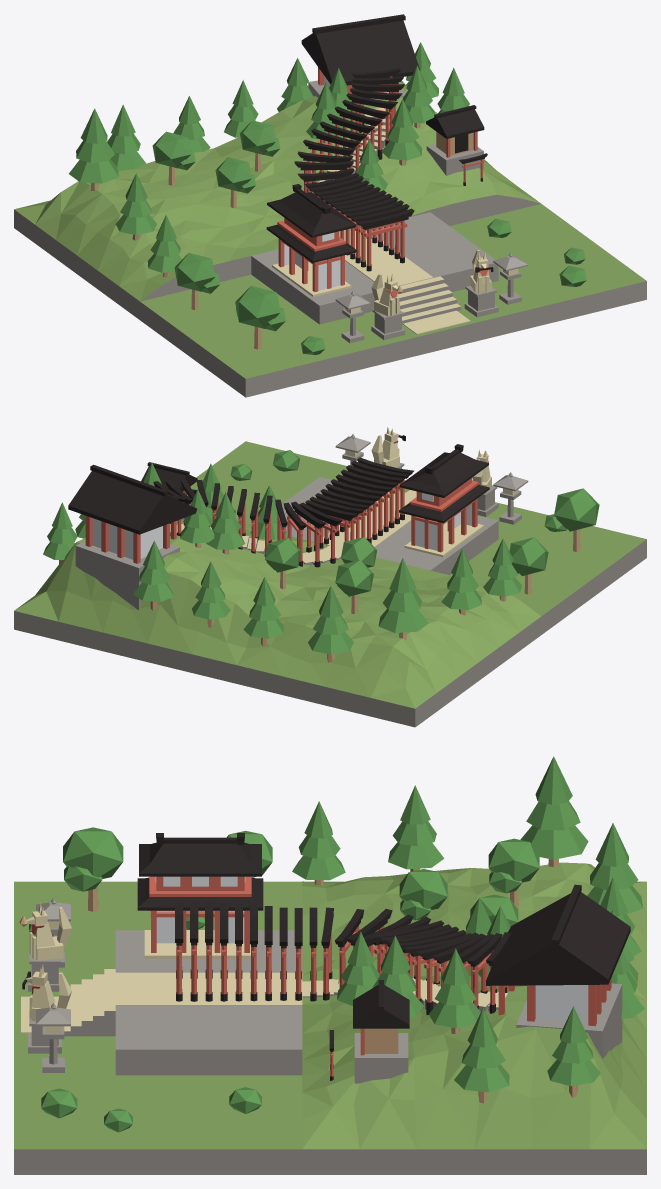
The model's file is fushimi-inari.glb.
3 views of the same model, one above another, from view 1: azimuth 30°, elevation 25°; view 2: azimuth 150°, elevation 25°; view 3: azimuth 270°, elevation 25° (orthographic). The views are drawn at different scales.
Parts seen in each view (by area): view 1: fushimi_terrain, fushimi_stone, fushimi_foliage, fushimi_roof, fushimi_cream, fushimi_vermilion, fushimi_wood, fushimi_snow; view 2: fushimi_terrain, fushimi_foliage, fushimi_stone, fushimi_roof, fushimi_vermilion, fushimi_cream, fushimi_snow, fushimi_wood; view 3: fushimi_terrain, fushimi_stone, fushimi_foliage, fushimi_roof, fushimi_cream, fushimi_vermilion, fushimi_snow, fushimi_wood.
Part boxes in pixels (x1,y1,x2,y2): fushimi_terrain: [14, 80, 646, 378]; fushimi_stone: [14, 80, 646, 397]; fushimi_foliage: [69, 42, 586, 355]; fushimi_roof: [266, 14, 493, 272]; fushimi_cream: [272, 108, 491, 334]; fushimi_vermilion: [277, 67, 488, 297]; fushimi_wood: [91, 123, 473, 349]; fushimi_snow: [284, 76, 388, 290]; fushimi_terrain: [14, 441, 646, 708]; fushimi_foliage: [43, 450, 599, 654]; fushimi_stone: [14, 434, 646, 727]; fushimi_roof: [68, 434, 489, 567]; fushimi_vermilion: [85, 440, 488, 563]; fushimi_cream: [170, 427, 491, 562]; fushimi_snow: [92, 493, 471, 559]; fushimi_wood: [59, 451, 580, 662]; fushimi_terrain: [14, 862, 646, 1149]; fushimi_stone: [14, 898, 646, 1174]; fushimi_foliage: [29, 756, 644, 1132]; fushimi_roof: [22, 833, 630, 1080]; fushimi_cream: [21, 903, 507, 1033]; fushimi_vermilion: [31, 876, 611, 1076]; fushimi_snow: [155, 876, 588, 1022]; fushimi_wood: [19, 859, 577, 1103].
Bounding box in the file's own units: 22.4 × 8.01 × 22.4.
